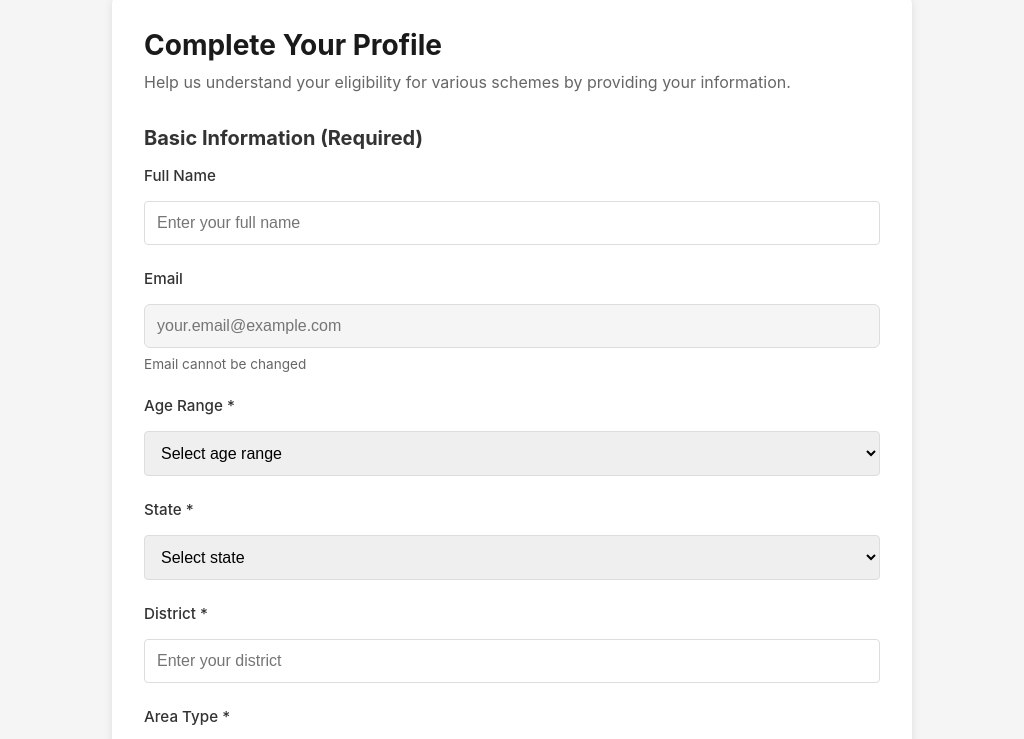
Test case: UserProfileForm › requires consent for sensitive data when provided
# Fill required fields
Step 1. Select "26-35" in the dropdown labelled "Age Range *" → coordinates (512, 454), box [144,431,880,476]
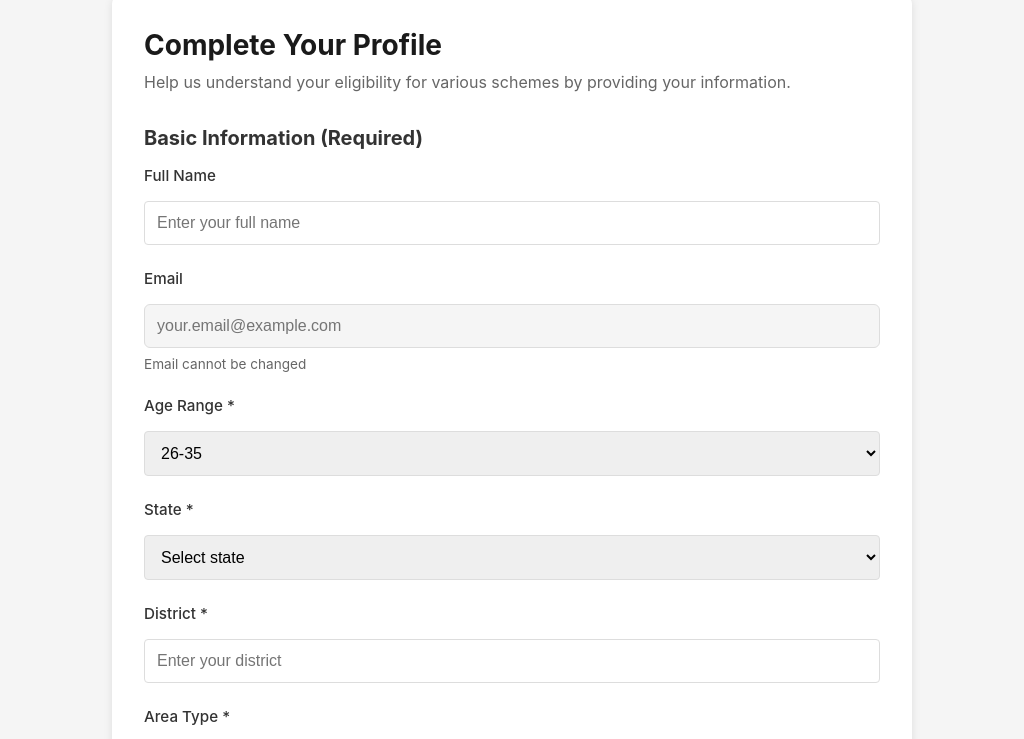
Step 2. Select "Karnataka" in the dropdown labelled "State *" → coordinates (512, 558), box [144,535,880,580]
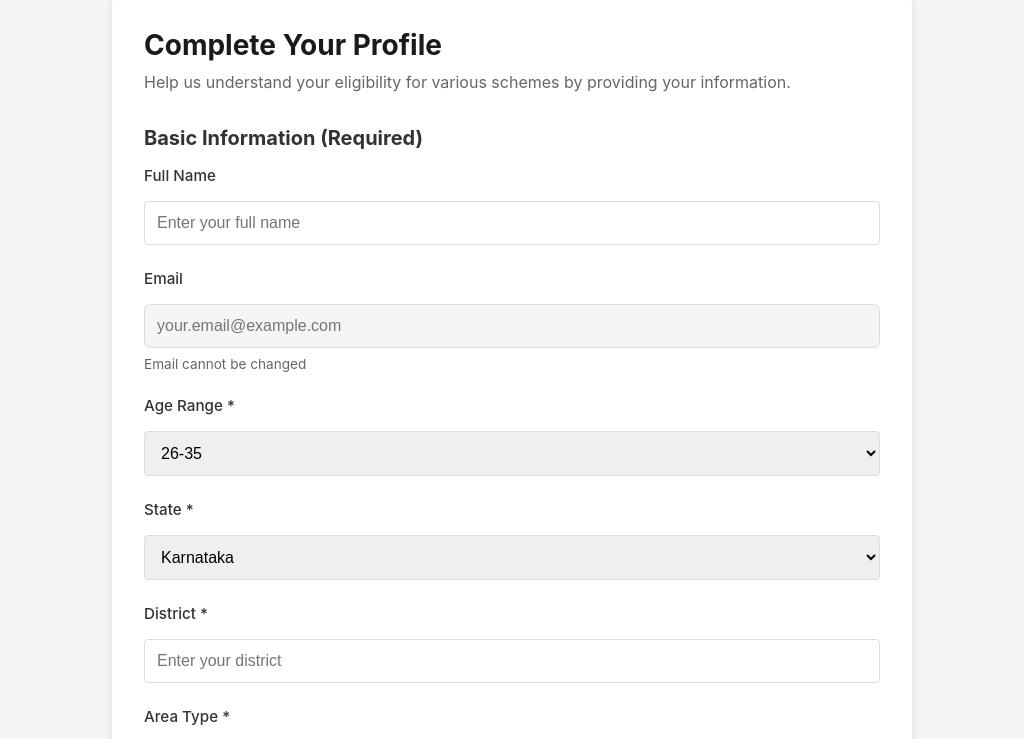
Step 3. Type "Bangalore" into the field labelled "District *" → coordinates (512, 661), box [144,639,880,683]
(page scrolled)
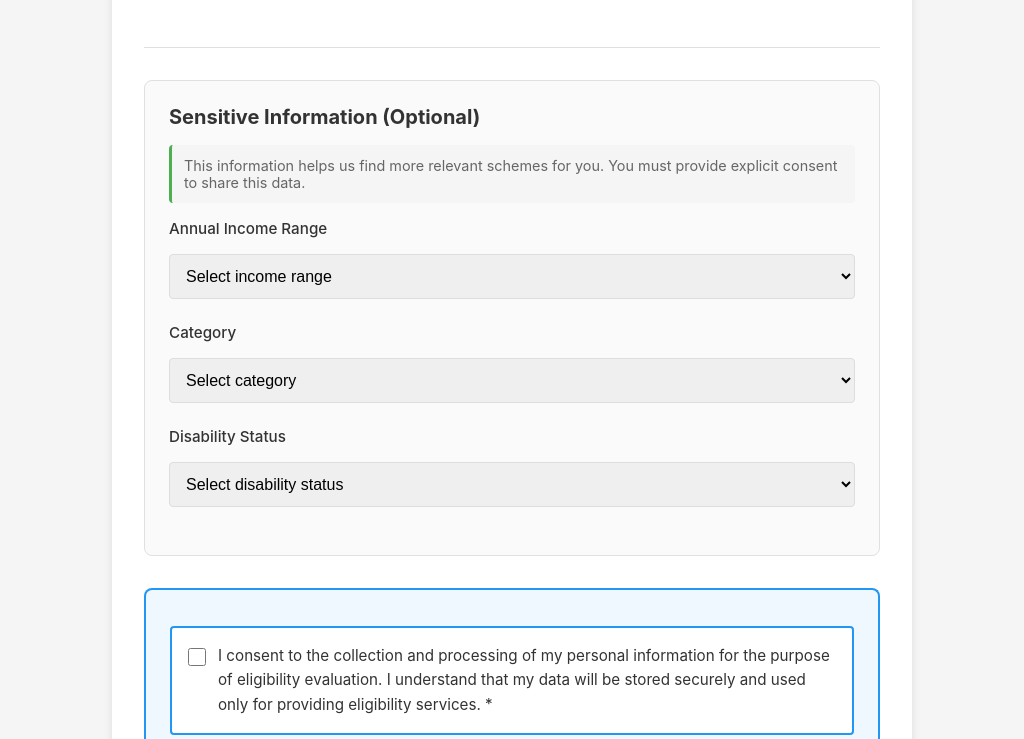
# Fill sensitive field without consent
Step 4. Select "OBC" in the dropdown labelled "Category" → coordinates (512, 380), box [169,358,855,403]
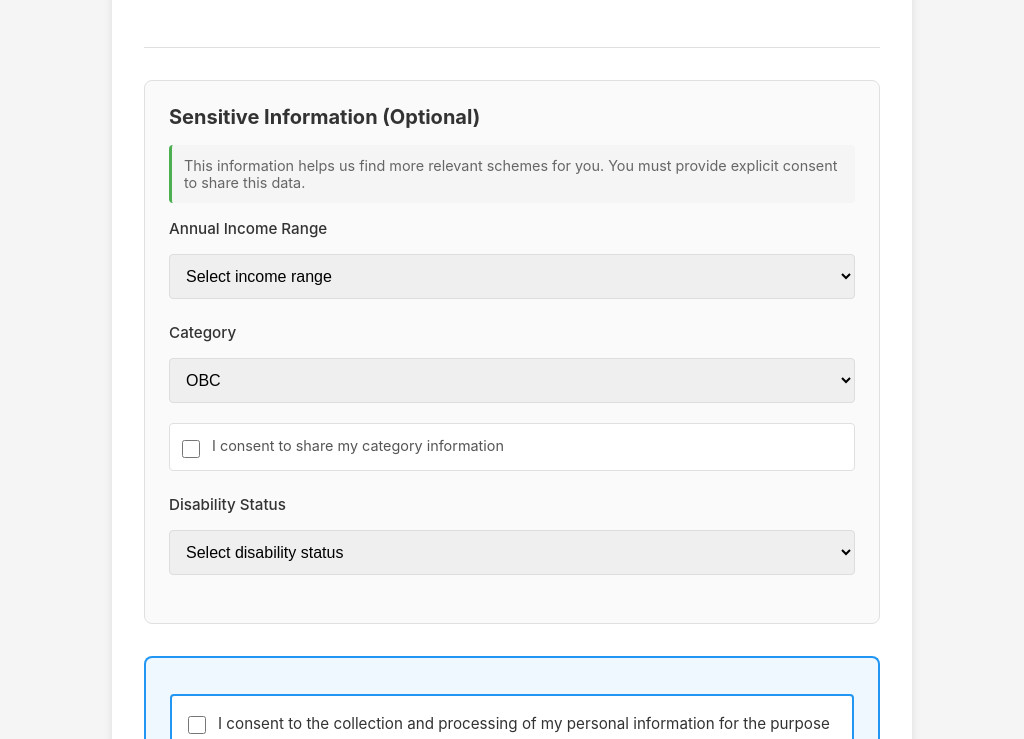
# Check main consent
Step 5. Click the checkbox labelled "I consent to the collection" → coordinates (197, 725), box [188,716,206,734]
(page scrolled)
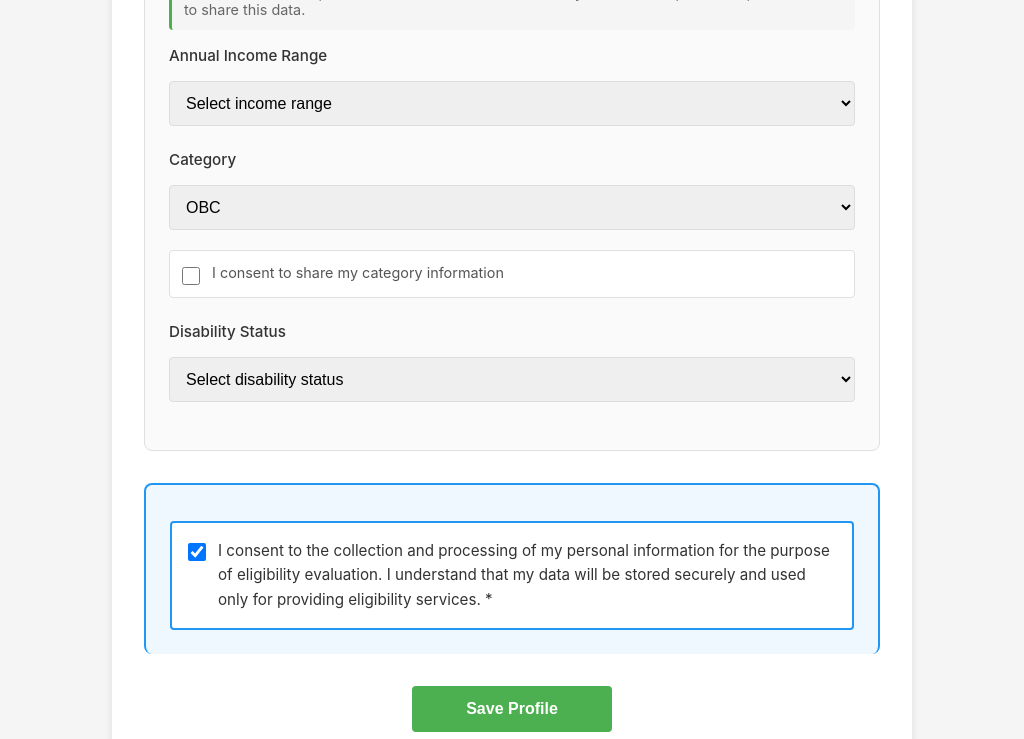
Step 6. Click the button "Save Profile" → coordinates (512, 709), box [412,686,612,732]
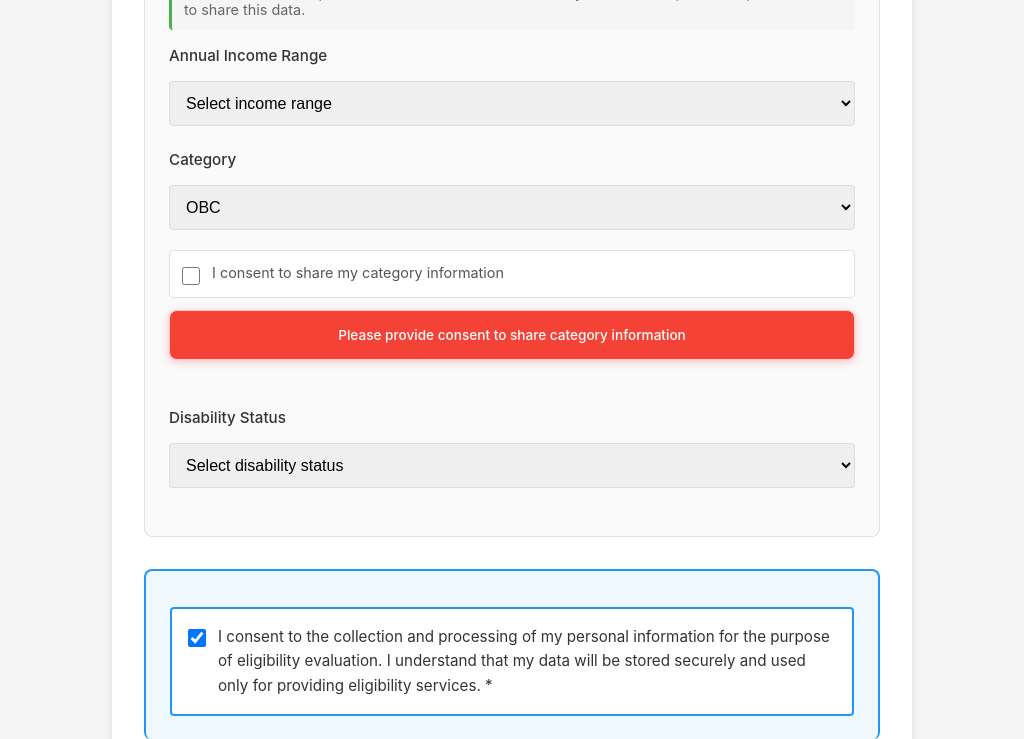
expect the text "Please provide consent to share category information" is shown: met, box [169,310,855,360]
